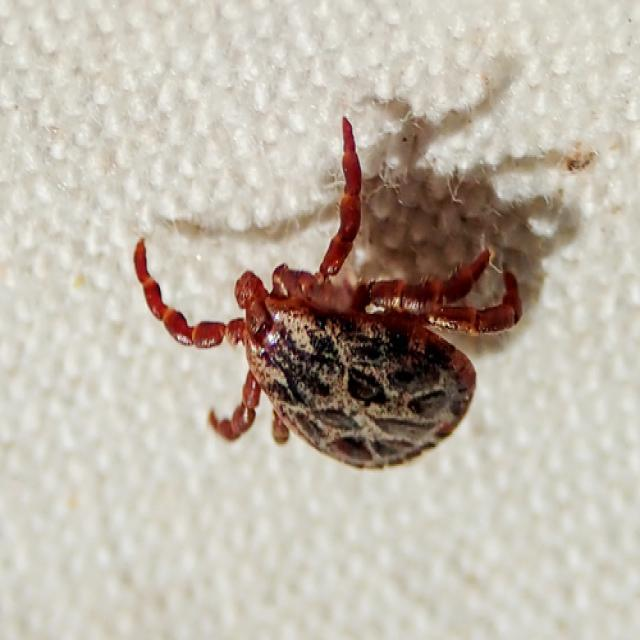Dermacentor Reticulatus-M: (134, 121, 520, 469)
